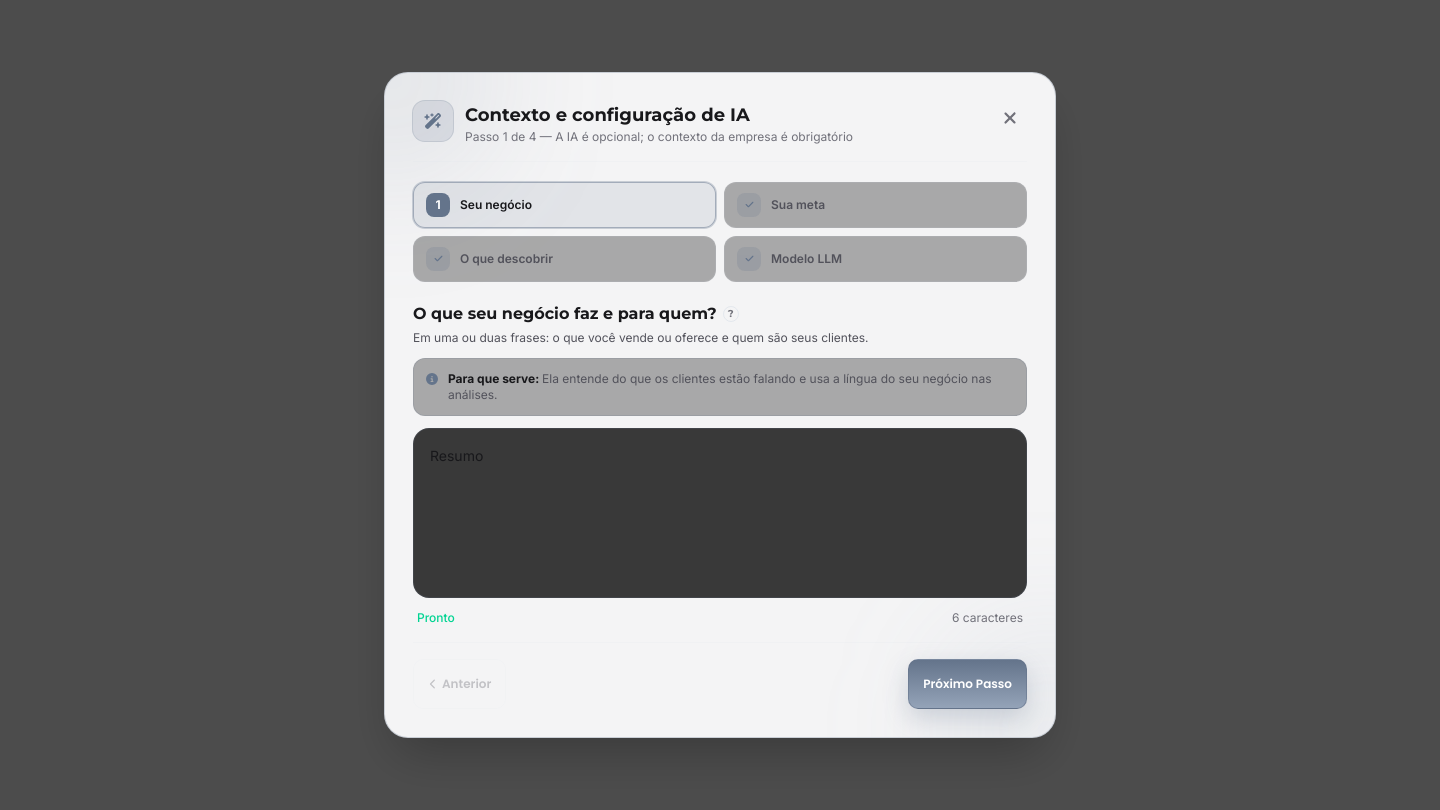
Test: [Unidade] Componentes e Contexto de Onboarding › escolha do modelo na etapa da LLM › quem já usa um modelo pago abre com os pagos visíveis
This screenshot has width=1440, height=810.
Click the button with aria-label "4. Modelo LLM": x=807, y=258 [724,236,1027,282]
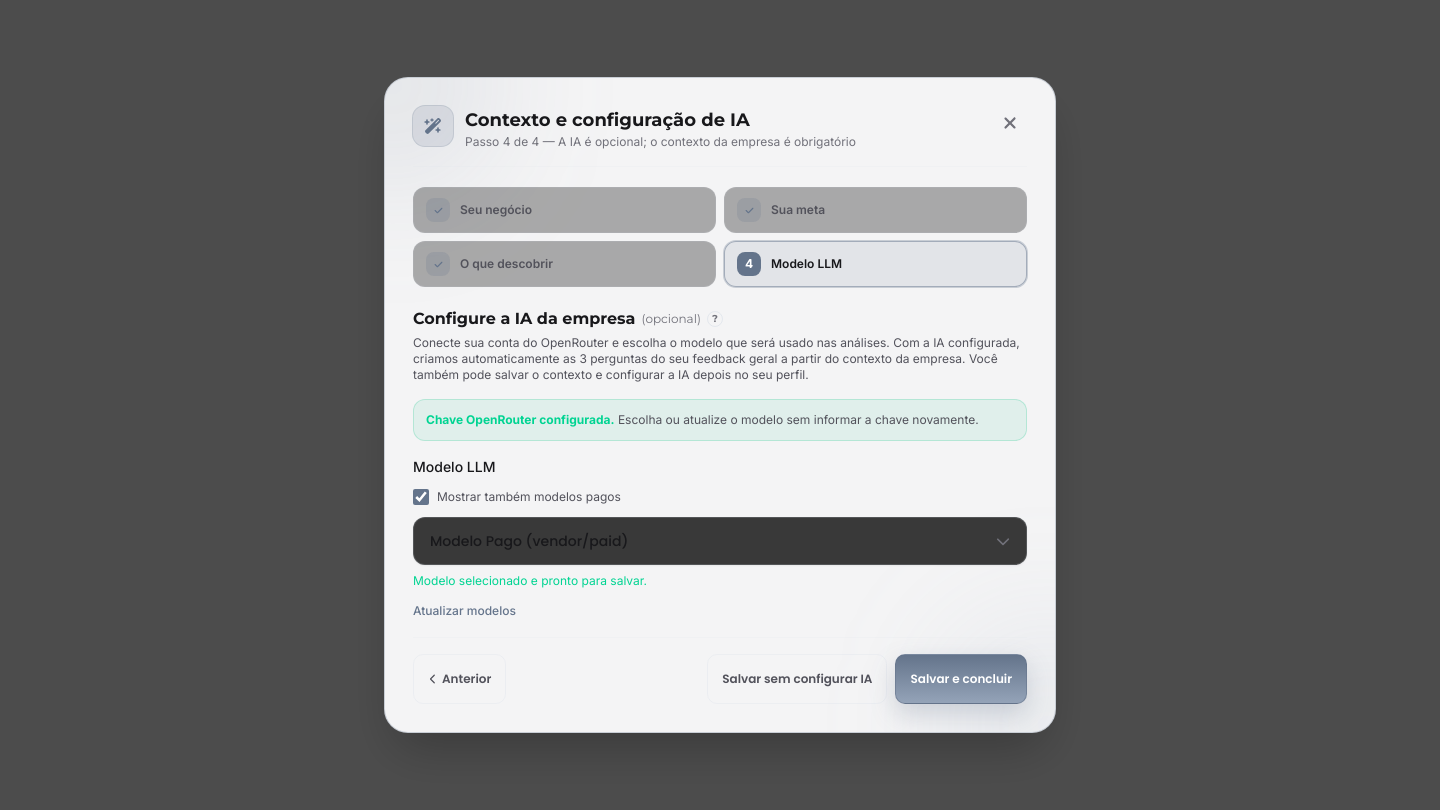
Click the dropdown named "Modelo LLM": x=529, y=541 [413,517,1027,565]
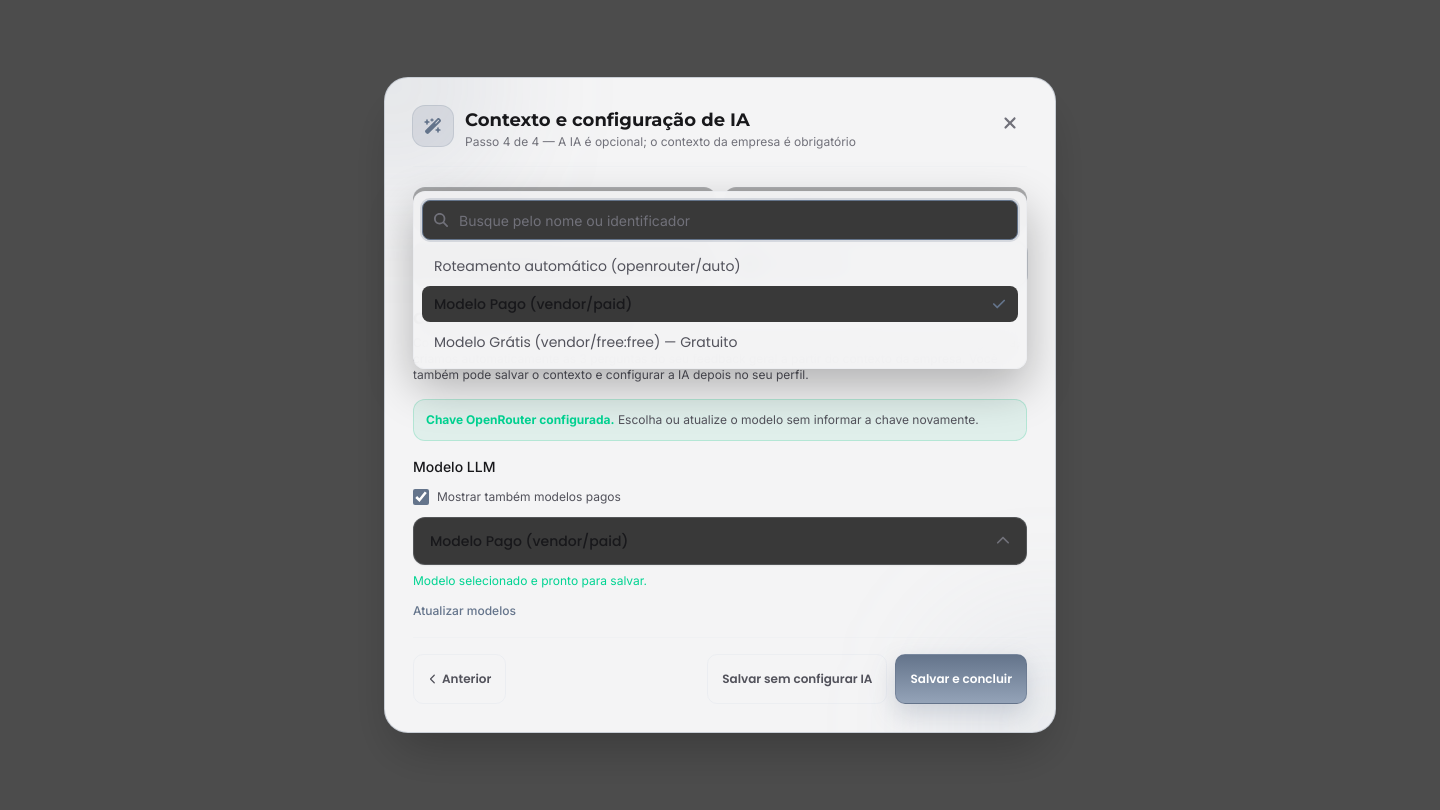
Expected: the checkbox labelled "Mostrar também modelos pagos" is checked, [413,489,429,505]
Expected: the option "Modelo Pago (vendor/paid)" is enabled, [422,286,1018,322]
